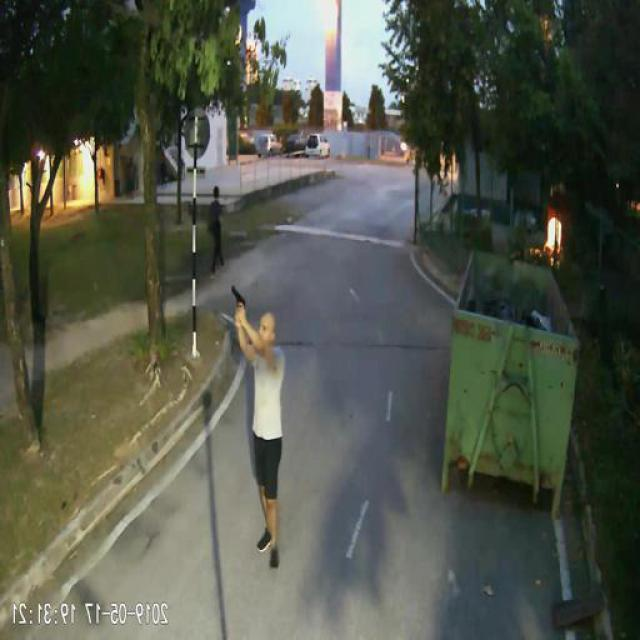Gun: (234, 284, 248, 318)
